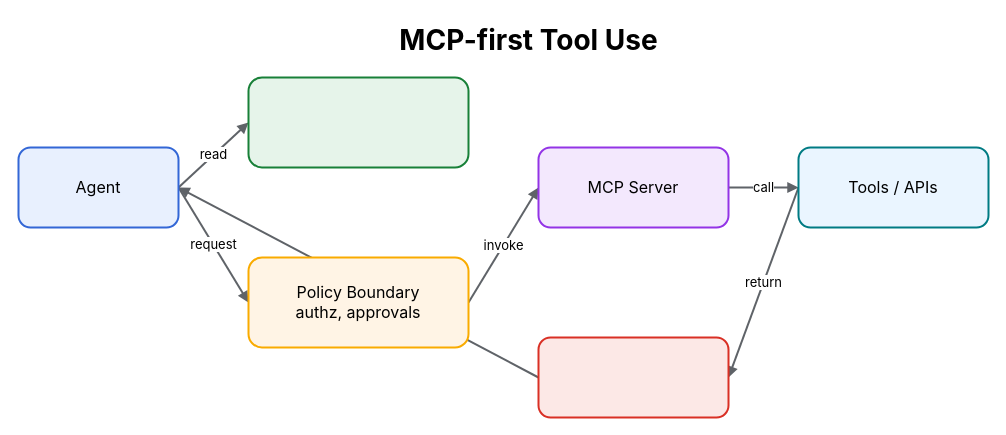
Some shapes in this 1006 by 435 pixel diagram are drawn without their labels. Each missing label, with the centre of its shape:
Structured Result: [633,377]
Tool Manifest schemas, descriptions: [358,122]
